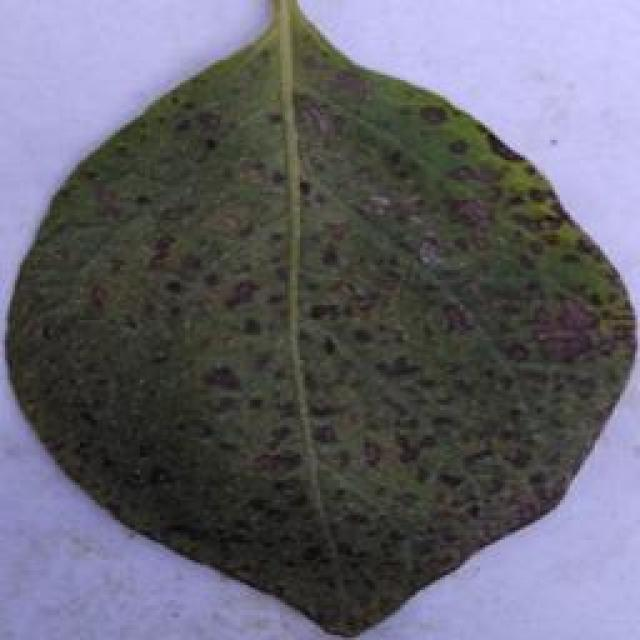Potato_Early_Blight: (5, 18, 640, 640)
